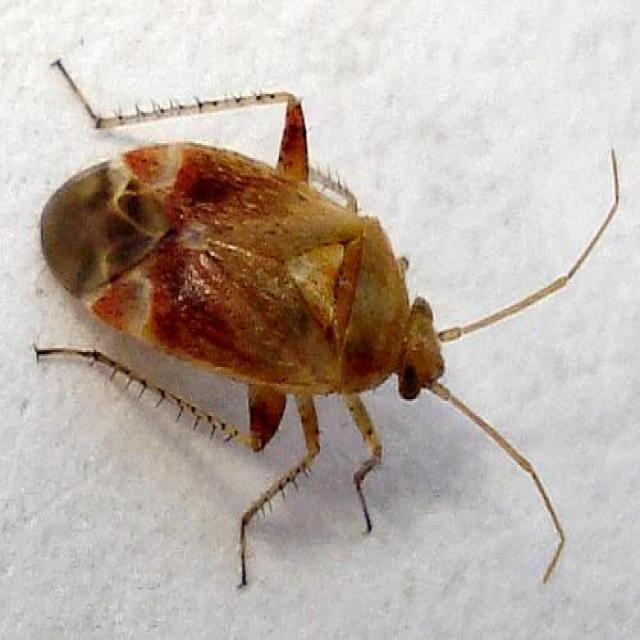Miridae-Adult-: (19, 46, 620, 576)
